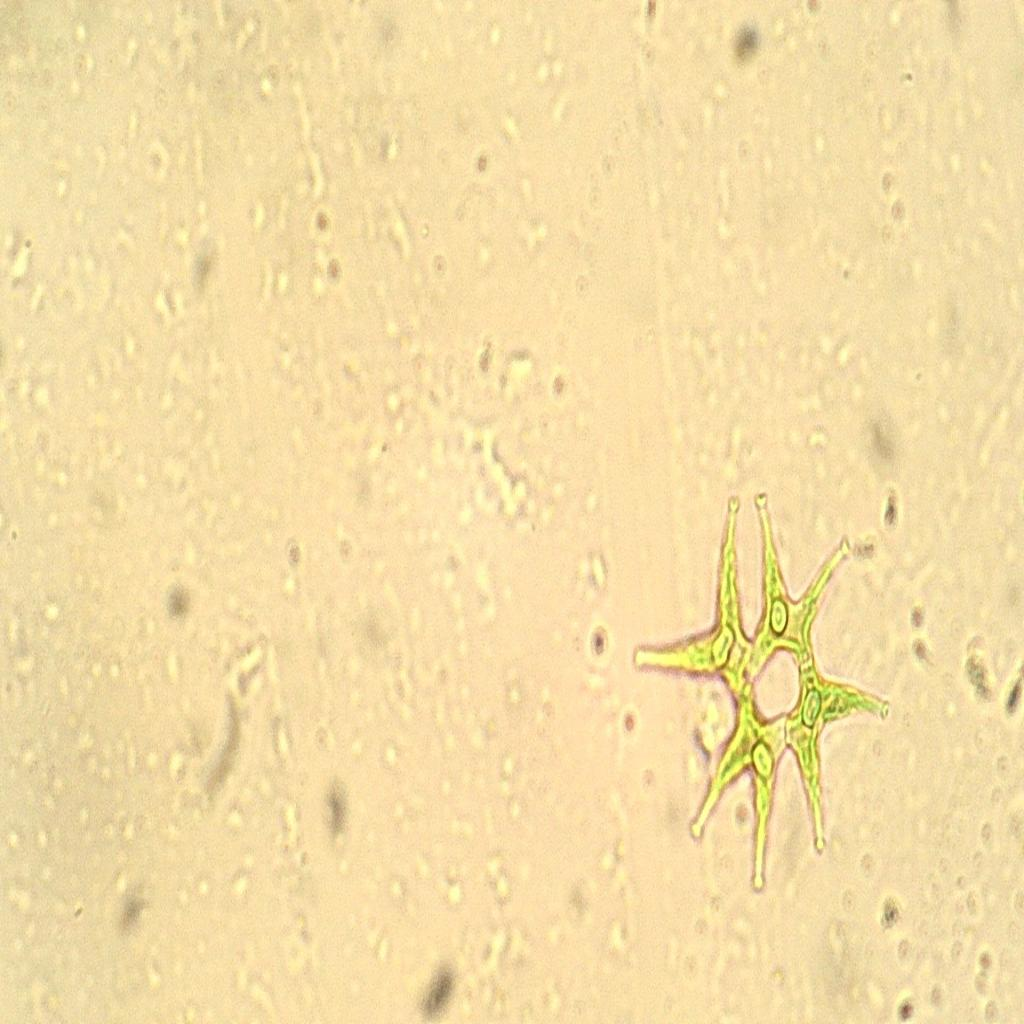Pediastrum_CT: (625, 477, 905, 908)
